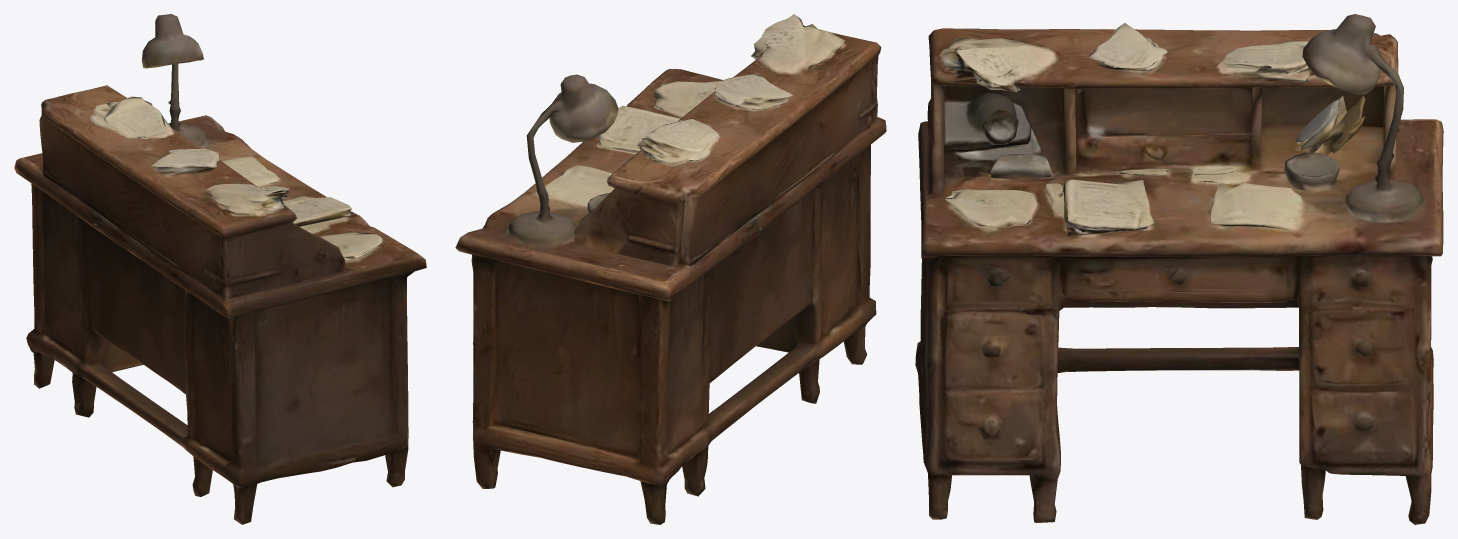
Rendered from de_desk.glb.
3 renders of one model, left to right at view 1: azimuth 30°, elevation 25°; view 2: azimuth 150°, elevation 25°; view 3: azimuth 270°, elevation 25°, orthographic. The views are drawn at different scales.
Visible parts, largest first — view 1: tripo_node_9fb3b1e5-4e88-4be2-aabe-e5e2d00172c0; view 2: tripo_node_9fb3b1e5-4e88-4be2-aabe-e5e2d00172c0; view 3: tripo_node_9fb3b1e5-4e88-4be2-aabe-e5e2d00172c0.
Part boxes in pixels (left/top/right/bottom): tripo_node_9fb3b1e5-4e88-4be2-aabe-e5e2d00172c0: left=14, top=14, right=426, bottom=524; tripo_node_9fb3b1e5-4e88-4be2-aabe-e5e2d00172c0: left=455, top=14, right=886, bottom=524; tripo_node_9fb3b1e5-4e88-4be2-aabe-e5e2d00172c0: left=915, top=14, right=1443, bottom=524.
Bounding box in the file's own units: 0.5849 × 0.9859 × 0.9998.
1 material, 1 textured.
